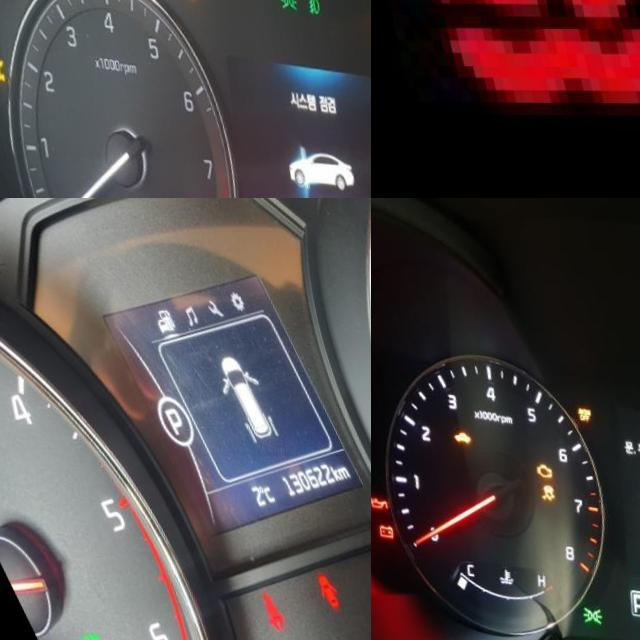Doors: (288, 572, 318, 609)
Engine cooling system: (371, 0, 640, 103)
FrontFogLight: (295, 0, 312, 15)
SideLamp: (559, 604, 583, 625), (268, 0, 291, 9)
